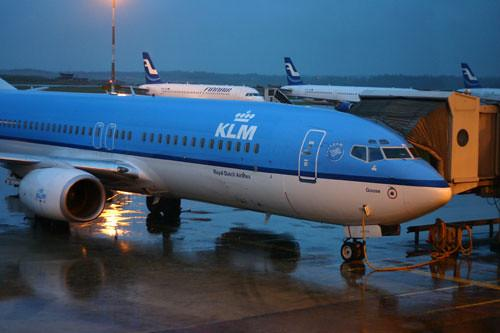plane: (1, 72, 460, 294), (277, 54, 428, 114), (131, 51, 266, 102), (456, 59, 500, 108)
